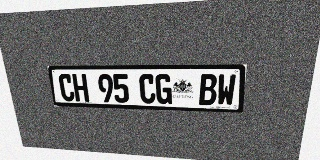5: (113, 74, 130, 103)
9: (97, 74, 115, 102)
B: (199, 74, 217, 105)
C: (139, 74, 156, 104), (58, 74, 75, 101)
G: (155, 74, 172, 104)
H: (72, 74, 89, 102)
W: (217, 74, 236, 106)
